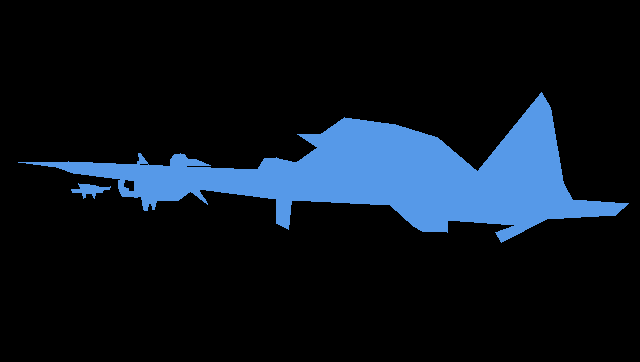Airplane: (18, 92, 628, 243), (118, 153, 211, 211), (71, 183, 111, 199)
